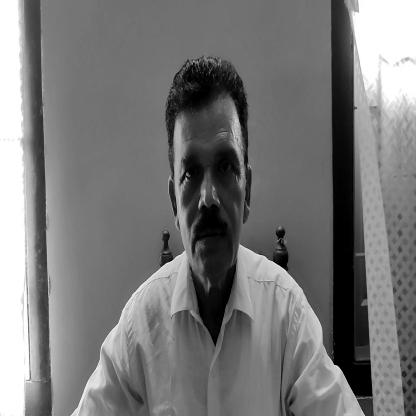Normal: (170, 72, 251, 278)
